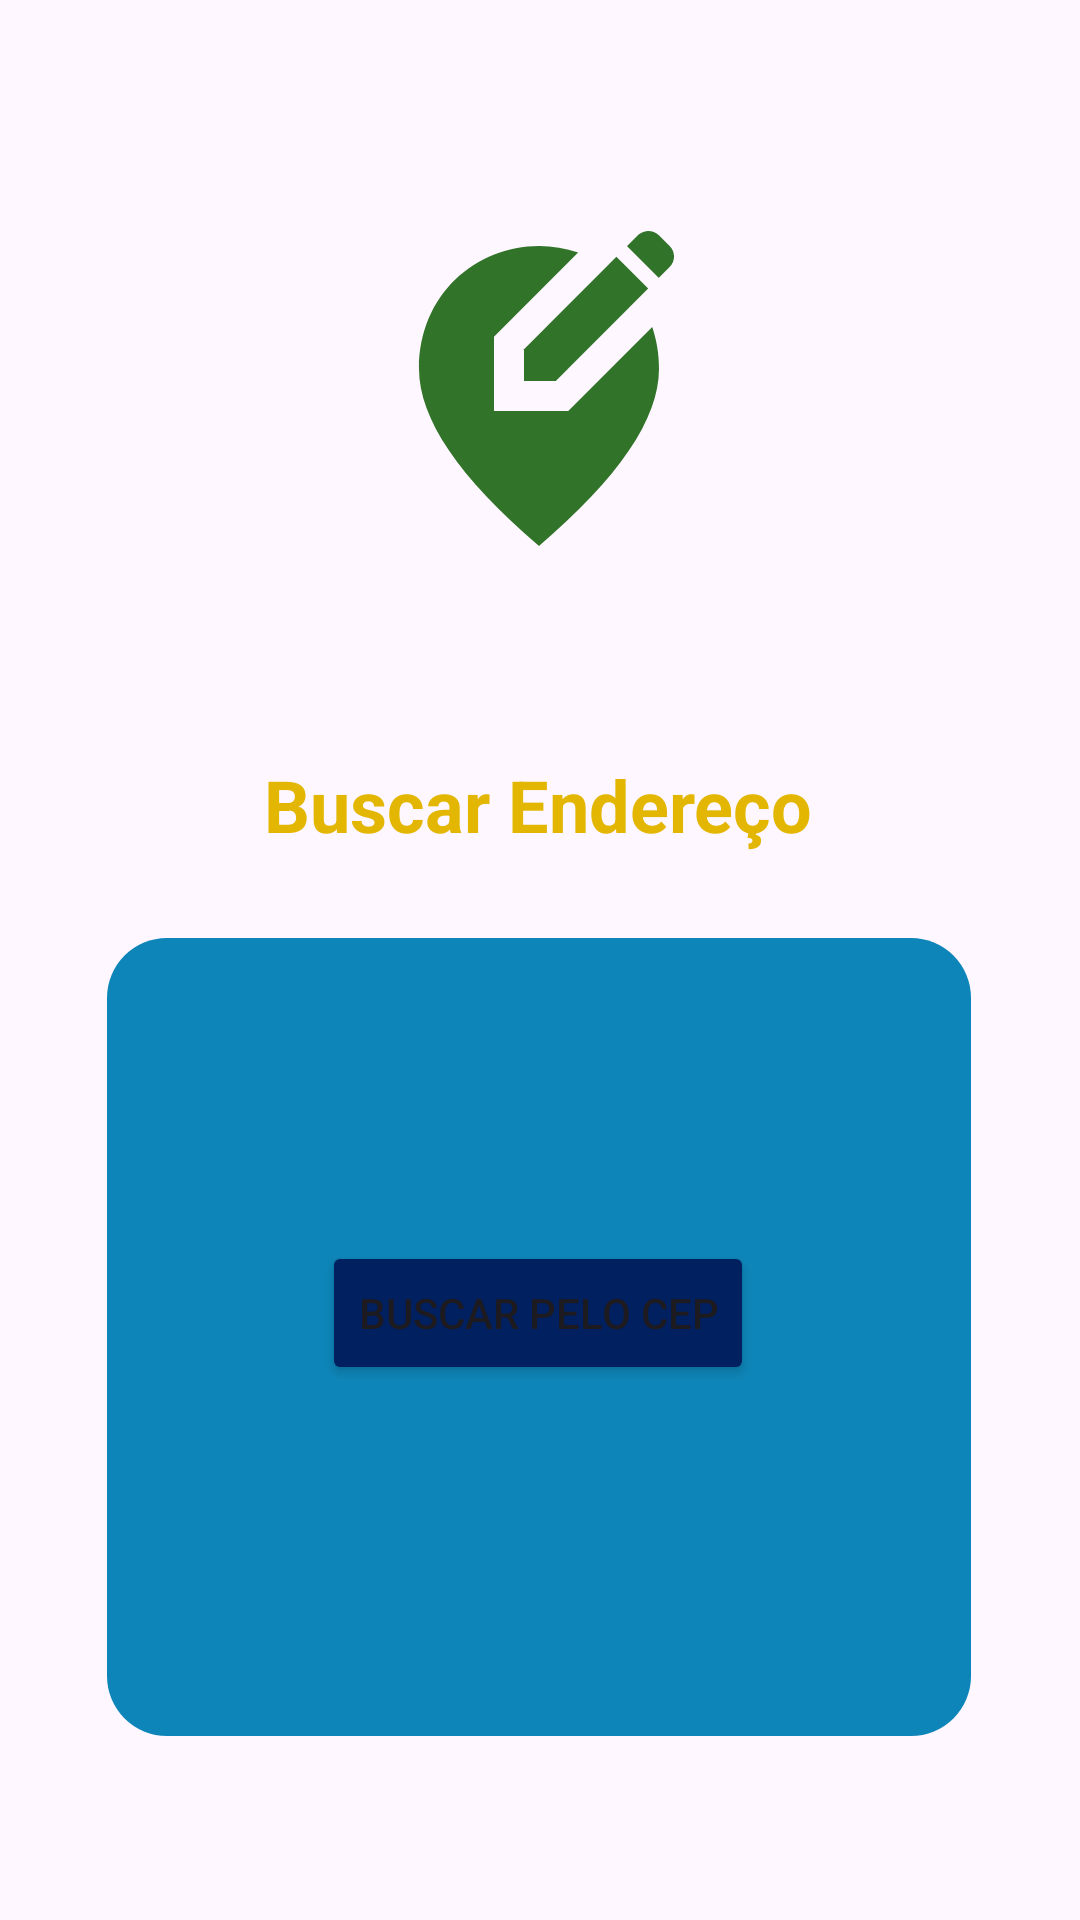

Screen size 1080w x 1920h. Icon name, then its box in pixels as (x1, y1, x2, y2):
endereco: (419, 231, 674, 546)
